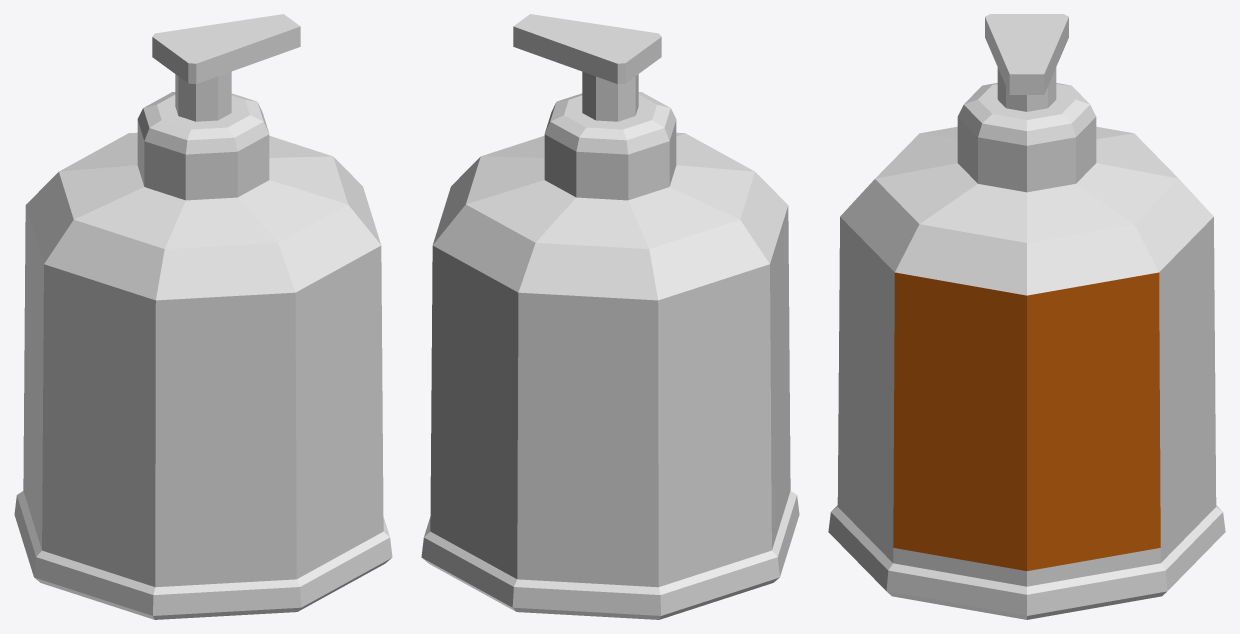
Rendered from Ma_Soap_Liquid_3.fbx.
3 renders of one model, left to right at view 1: azimuth 30°, elevation 25°; view 2: azimuth 150°, elevation 25°; view 3: azimuth 270°, elevation 25°, orthographic.
Parts seen in each view (by area): view 1: Ma_Soap_Liquid_3; view 2: Ma_Soap_Liquid_3; view 3: Ma_Soap_Liquid_3.
Boxes of the visible parts, <box> form: Ma_Soap_Liquid_3: <box>14,14,392,619</box>; Ma_Soap_Liquid_3: <box>421,14,799,619</box>; Ma_Soap_Liquid_3: <box>828,14,1225,619</box>.
Size of the model in its own units: 74.29 by 74.29 by 105.
